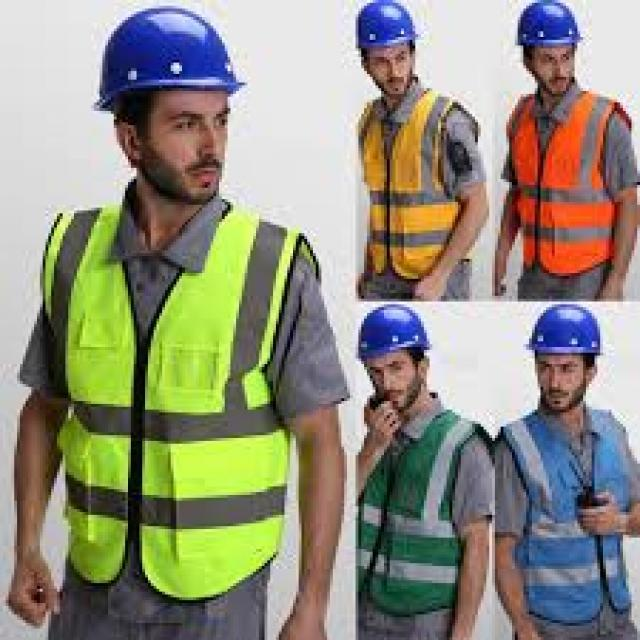reflective_jacket: (33, 190, 310, 608), (352, 91, 472, 281), (506, 91, 625, 276)
safety_helmet: (82, 2, 255, 119), (352, 301, 435, 361), (523, 301, 605, 358), (509, 0, 588, 54), (350, 0, 427, 54)
